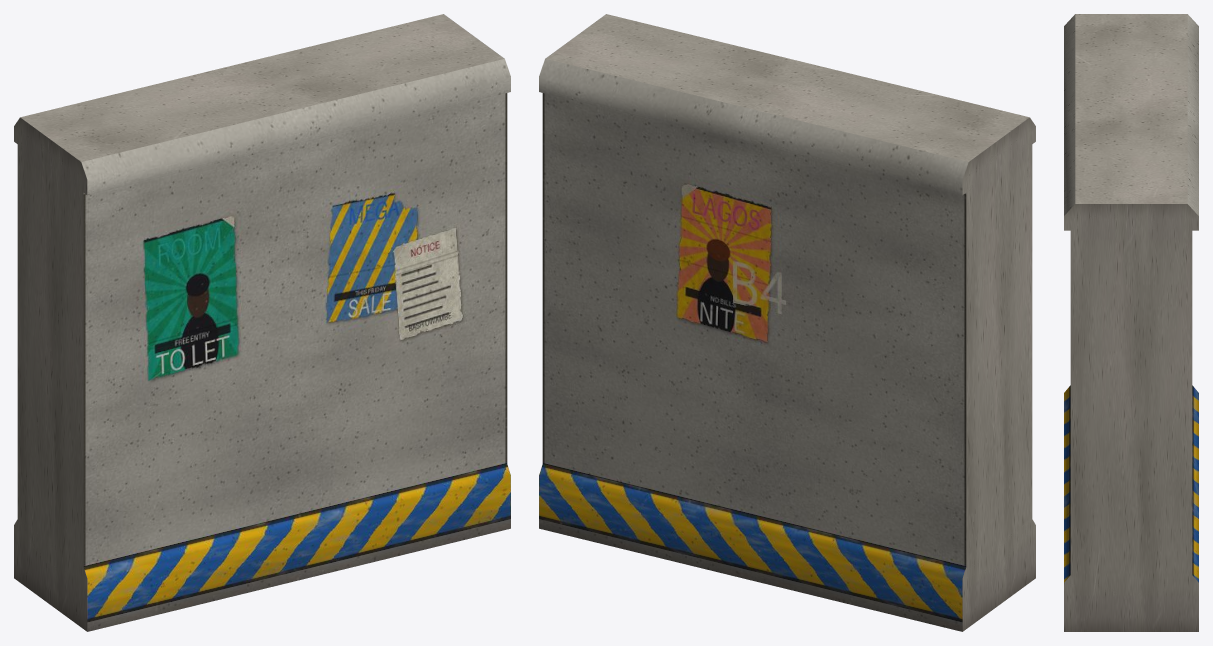
Rendered from env_wall.glb.
3 renders of one model, left to right at view 1: azimuth 30°, elevation 25°; view 2: azimuth 150°, elevation 25°; view 3: azimuth 270°, elevation 25°, orthographic. The views are drawn at different scales.
Parts seen in each view (by area): view 1: env_wall_body; view 2: env_wall_body; view 3: env_wall_body.
Part boxes in pixels (left/top/right/bottom): env_wall_body: left=14, top=14, right=510, bottom=631; env_wall_body: left=539, top=14, right=1035, bottom=631; env_wall_body: left=1064, top=14, right=1198, bottom=631.
Size of the model in its own units: 1 by 1.05 by 0.3.
1 material, 1 textured.
